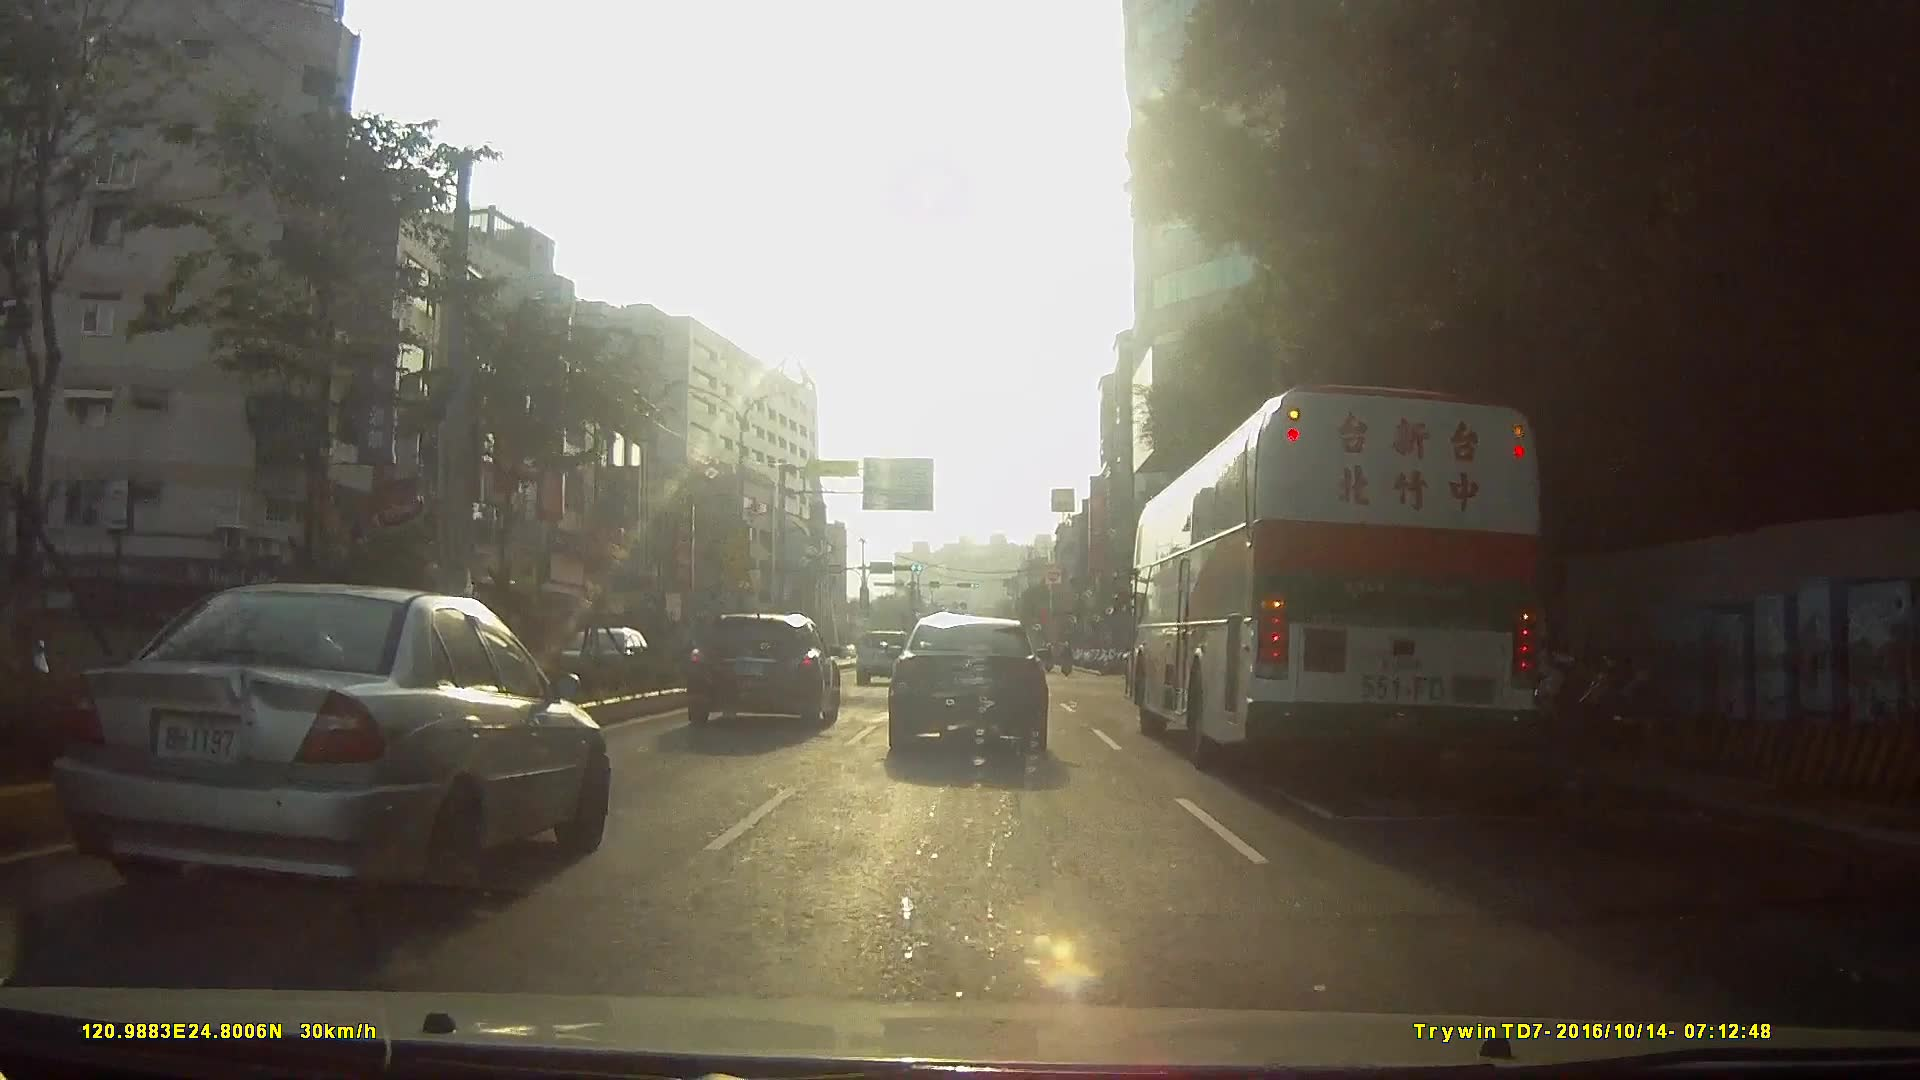vehicle: (1120, 339, 1615, 785), (47, 574, 611, 923), (885, 607, 1050, 754), (684, 609, 840, 727), (855, 625, 913, 683)
